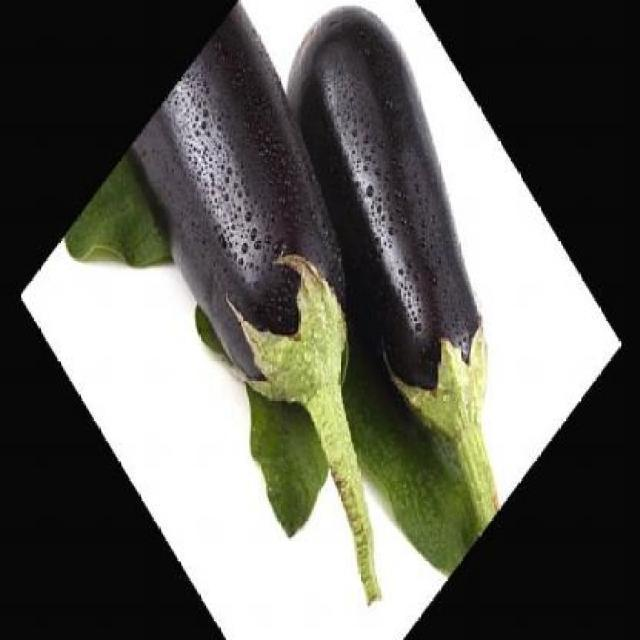eggplant: (108, 0, 503, 615), (230, 0, 598, 543)
